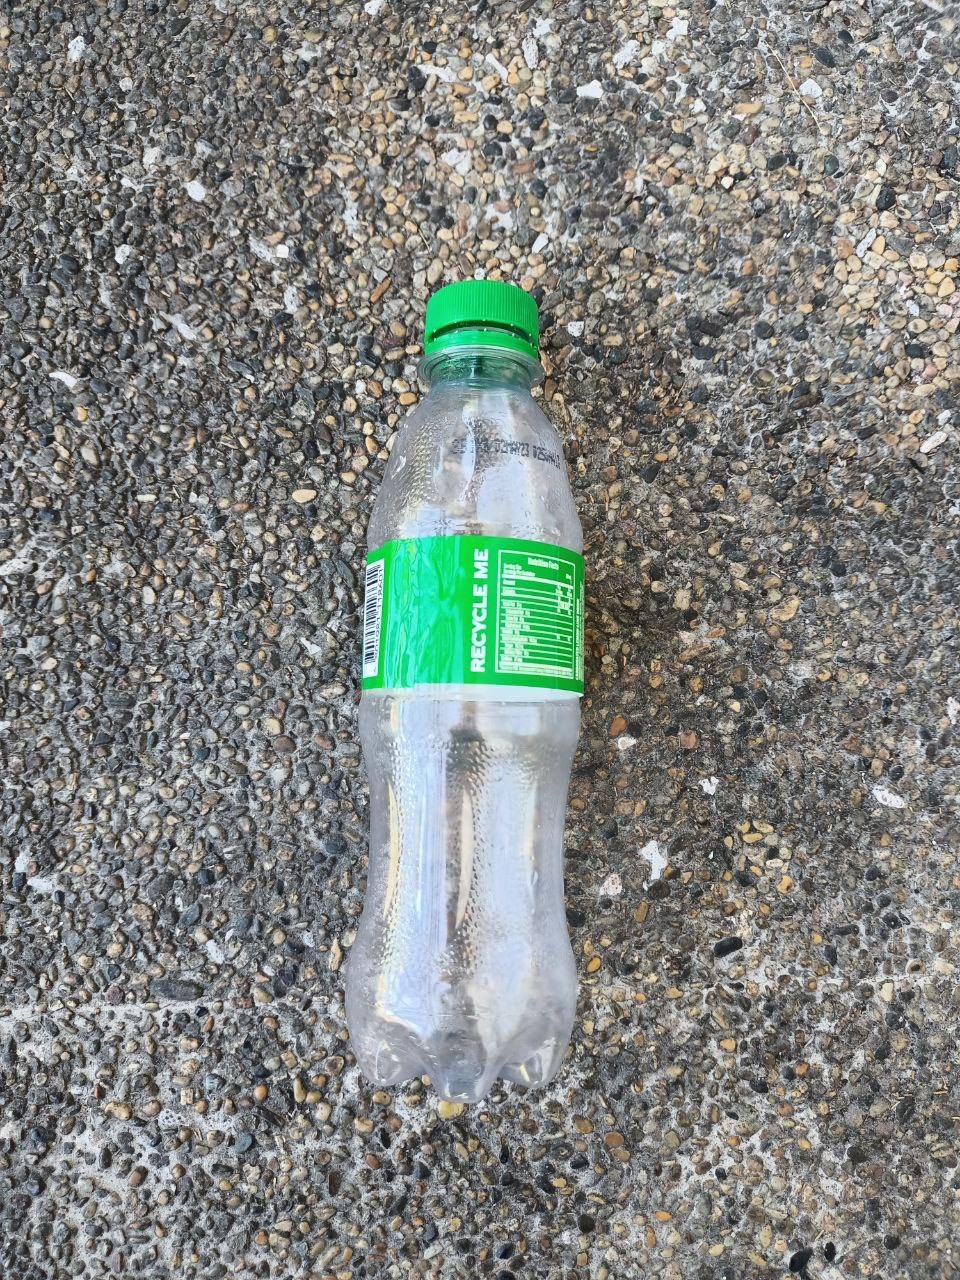plastic: (325, 220, 635, 1104)
